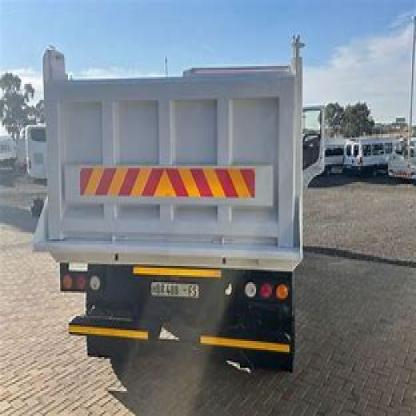dump_truck: (22, 16, 330, 380)
